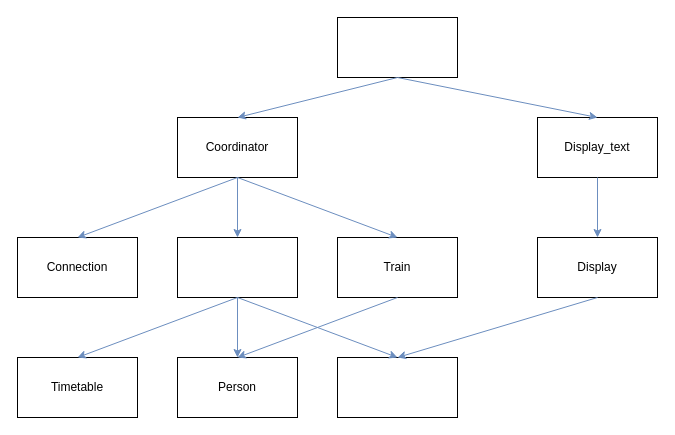
This 675x435 diagram has some shape labels left out. The box of each missing label's shape, as (x1, y1, x2, y2) in pixels:
Metro app: (336, 16, 458, 78)
Point: (336, 356, 458, 418)
Station: (176, 236, 298, 298)
